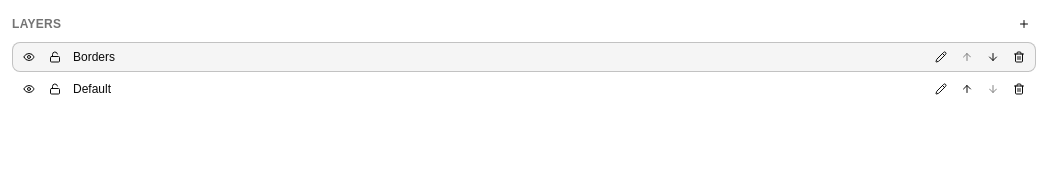
LayersPanel › shows a backend error inline
This screenshot has width=1048, height=172.
Step 1. Click the button named "Hide layer Borders" → (29, 57), box [17,45,41,69]
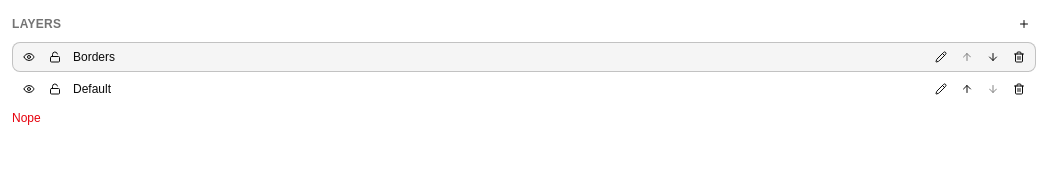
Expected: the message reads "Nope", [12,111,41,125]
